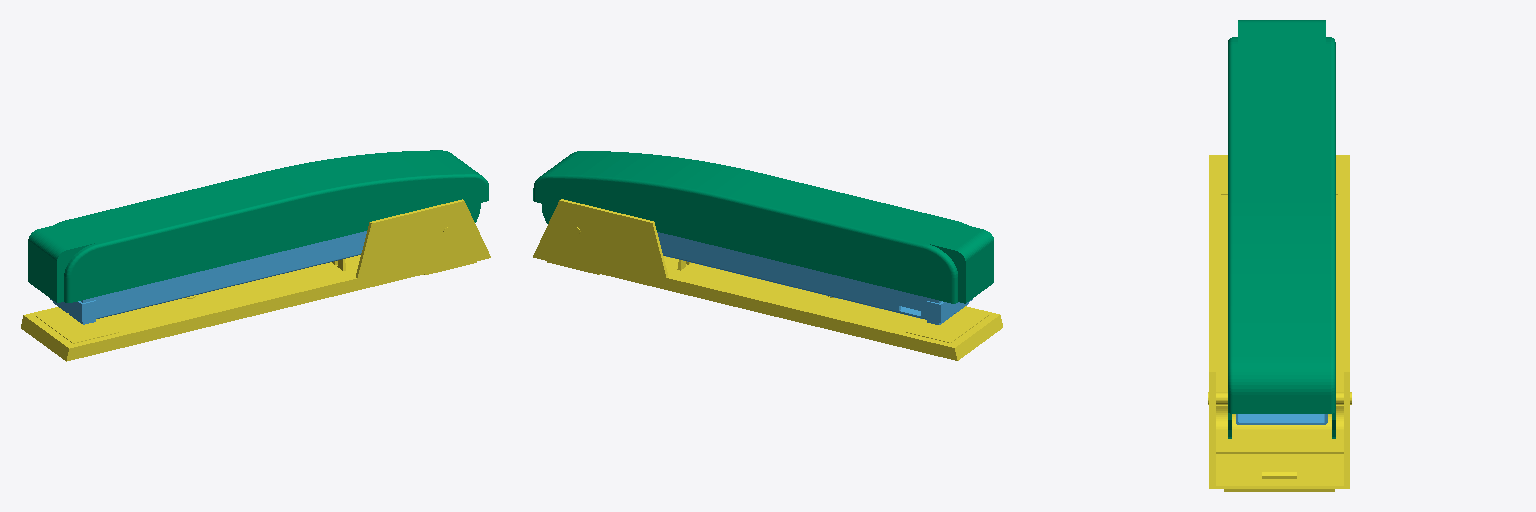
URDF robot description (partnet_88ac7b2b3050f1f861f7b52424be58ab):
<?xml version="1.0" ?>
<robot name="partnet_88ac7b2b3050f1f861f7b52424be58ab">
	<link name="base"/>
	<link name="link_0">
		<visual name="body-1">
			<origin xyz="0 0.018113 0.7633639999999999"/>
			<geometry>
				<mesh filename="textured_objs/original-33.obj"/>
			</geometry>
		</visual>
		<visual name="body-1">
			<origin xyz="0 0.018113 0.7633639999999999"/>
			<geometry>
				<mesh filename="textured_objs/original-14.obj"/>
			</geometry>
		</visual>
		<visual name="body-1">
			<origin xyz="0 0.018113 0.7633639999999999"/>
			<geometry>
				<mesh filename="textured_objs/original-31.obj"/>
			</geometry>
		</visual>
		<visual name="body-1">
			<origin xyz="0 0.018113 0.7633639999999999"/>
			<geometry>
				<mesh filename="textured_objs/original-32.obj"/>
			</geometry>
		</visual>
		<collision>
			<origin xyz="0 0.018113 0.7633639999999999"/>
			<geometry>
				<mesh filename="textured_objs/original-33.obj"/>
			</geometry>
		</collision>
		<collision>
			<origin xyz="0 0.018113 0.7633639999999999"/>
			<geometry>
				<mesh filename="textured_objs/original-14.obj"/>
			</geometry>
		</collision>
		<collision>
			<origin xyz="0 0.018113 0.7633639999999999"/>
			<geometry>
				<mesh filename="textured_objs/original-31.obj"/>
			</geometry>
		</collision>
		<collision>
			<origin xyz="0 0.018113 0.7633639999999999"/>
			<geometry>
				<mesh filename="textured_objs/original-32.obj"/>
			</geometry>
		</collision>
	</link>
	<joint name="joint_0" type="fixed">
		<origin xyz="0 0.0 0.0"/>
		<axis xyz="1 0 0"/>
		<child link="link_0"/>
		<parent link="link_1"/>
		<limit lower="-0.05026548245743661" upper="2.657787384936965"/>
	</joint>
	<link name="link_1">
		<visual name="lid-2">
			<origin xyz="0 0.018113 0.7633639999999999"/>
			<geometry>
				<mesh filename="textured_objs/original-46.obj"/>
			</geometry>
		</visual>
		<visual name="lid-2">
			<origin xyz="0 0.018113 0.7633639999999999"/>
			<geometry>
				<mesh filename="textured_objs/original-47.obj"/>
			</geometry>
		</visual>
		<visual name="lid-2">
			<origin xyz="0 0.018113 0.7633639999999999"/>
			<geometry>
				<mesh filename="textured_objs/original-44.obj"/>
			</geometry>
		</visual>
		<visual name="lid-2">
			<origin xyz="0 0.018113 0.7633639999999999"/>
			<geometry>
				<mesh filename="textured_objs/original-48.obj"/>
			</geometry>
		</visual>
		<visual name="lid-2">
			<origin xyz="0 0.018113 0.7633639999999999"/>
			<geometry>
				<mesh filename="textured_objs/original-45.obj"/>
			</geometry>
		</visual>
		<visual name="lid-2">
			<origin xyz="0 0.018113 0.7633639999999999"/>
			<geometry>
				<mesh filename="textured_objs/original-37.obj"/>
			</geometry>
		</visual>
		<visual name="lid-2">
			<origin xyz="0 0.018113 0.7633639999999999"/>
			<geometry>
				<mesh filename="textured_objs/original-50.obj"/>
			</geometry>
		</visual>
		<visual name="lid-2">
			<origin xyz="0 0.018113 0.7633639999999999"/>
			<geometry>
				<mesh filename="textured_objs/original-51.obj"/>
			</geometry>
		</visual>
		<visual name="lid-2">
			<origin xyz="0 0.018113 0.7633639999999999"/>
			<geometry>
				<mesh filename="textured_objs/original-52.obj"/>
			</geometry>
		</visual>
		<visual name="lid-2">
			<origin xyz="0 0.018113 0.7633639999999999"/>
			<geometry>
				<mesh filename="textured_objs/original-59.obj"/>
			</geometry>
		</visual>
		<visual name="lid-2">
			<origin xyz="0 0.018113 0.7633639999999999"/>
			<geometry>
				<mesh filename="textured_objs/original-38.obj"/>
			</geometry>
		</visual>
		<visual name="lid-2">
			<origin xyz="0 0.018113 0.7633639999999999"/>
			<geometry>
				<mesh filename="textured_objs/original-39.obj"/>
			</geometry>
		</visual>
		<visual name="lid-2">
			<origin xyz="0 0.018113 0.7633639999999999"/>
			<geometry>
				<mesh filename="textured_objs/original-49.obj"/>
			</geometry>
		</visual>
		<visual name="lid-2">
			<origin xyz="0 0.018113 0.7633639999999999"/>
			<geometry>
				<mesh filename="textured_objs/original-36.obj"/>
			</geometry>
		</visual>
		<visual name="lid-2">
			<origin xyz="0 0.018113 0.7633639999999999"/>
			<geometry>
				<mesh filename="textured_objs/original-55.obj"/>
			</geometry>
		</visual>
		<visual name="lid-2">
			<origin xyz="0 0.018113 0.7633639999999999"/>
			<geometry>
				<mesh filename="textured_objs/original-56.obj"/>
			</geometry>
		</visual>
		<visual name="lid-2">
			<origin xyz="0 0.018113 0.7633639999999999"/>
			<geometry>
				<mesh filename="textured_objs/original-53.obj"/>
			</geometry>
		</visual>
		<visual name="lid-2">
			<origin xyz="0 0.018113 0.7633639999999999"/>
			<geometry>
				<mesh filename="textured_objs/original-57.obj"/>
			</geometry>
		</visual>
		<visual name="lid-2">
			<origin xyz="0 0.018113 0.7633639999999999"/>
			<geometry>
				<mesh filename="textured_objs/original-54.obj"/>
			</geometry>
		</visual>
		<visual name="lid-2">
			<origin xyz="0 0.018113 0.7633639999999999"/>
			<geometry>
				<mesh filename="textured_objs/original-60.obj"/>
			</geometry>
		</visual>
		<visual name="lid-2">
			<origin xyz="0 0.018113 0.7633639999999999"/>
			<geometry>
				<mesh filename="textured_objs/original-61.obj"/>
			</geometry>
		</visual>
		<visual name="lid-2">
			<origin xyz="0 0.018113 0.7633639999999999"/>
			<geometry>
				<mesh filename="textured_objs/original-58.obj"/>
			</geometry>
		</visual>
		<visual name="lid-2">
			<origin xyz="0 0.018113 0.7633639999999999"/>
			<geometry>
				<mesh filename="textured_objs/original-15.obj"/>
			</geometry>
		</visual>
		<visual name="lid-2">
			<origin xyz="0 0.018113 0.7633639999999999"/>
			<geometry>
				<mesh filename="textured_objs/original-12.obj"/>
			</geometry>
		</visual>
		<visual name="lid-2">
			<origin xyz="0 0.018113 0.7633639999999999"/>
			<geometry>
				<mesh filename="textured_objs/original-2.obj"/>
			</geometry>
		</visual>
		<visual name="lid-2">
			<origin xyz="0 0.018113 0.7633639999999999"/>
			<geometry>
				<mesh filename="textured_objs/original-7.obj"/>
			</geometry>
		</visual>
		<visual name="lid-2">
			<origin xyz="0 0.018113 0.7633639999999999"/>
			<geometry>
				<mesh filename="textured_objs/original-34.obj"/>
			</geometry>
		</visual>
		<visual name="lid-2">
			<origin xyz="0 0.018113 0.7633639999999999"/>
			<geometry>
				<mesh filename="textured_objs/original-10.obj"/>
			</geometry>
		</visual>
		<visual name="lid-2">
			<origin xyz="0 0.018113 0.7633639999999999"/>
			<geometry>
				<mesh filename="textured_objs/original-9.obj"/>
			</geometry>
		</visual>
		<visual name="lid-2">
			<origin xyz="0 0.018113 0.7633639999999999"/>
			<geometry>
				<mesh filename="textured_objs/original-8.obj"/>
			</geometry>
		</visual>
		<visual name="lid-2">
			<origin xyz="0 0.018113 0.7633639999999999"/>
			<geometry>
				<mesh filename="textured_objs/original-4.obj"/>
			</geometry>
		</visual>
		<visual name="lid-2">
			<origin xyz="0 0.018113 0.7633639999999999"/>
			<geometry>
				<mesh filename="textured_objs/original-5.obj"/>
			</geometry>
		</visual>
		<visual name="lid-2">
			<origin xyz="0 0.018113 0.7633639999999999"/>
			<geometry>
				<mesh filename="textured_objs/original-6.obj"/>
			</geometry>
		</visual>
		<visual name="lid-2">
			<origin xyz="0 0.018113 0.7633639999999999"/>
			<geometry>
				<mesh filename="textured_objs/original-3.obj"/>
			</geometry>
		</visual>
		<visual name="lid-2">
			<origin xyz="0 0.018113 0.7633639999999999"/>
			<geometry>
				<mesh filename="textured_objs/original-11.obj"/>
			</geometry>
		</visual>
		<collision>
			<origin xyz="0 0.018113 0.7633639999999999"/>
			<geometry>
				<mesh filename="textured_objs/original-46.obj"/>
			</geometry>
		</collision>
		<collision>
			<origin xyz="0 0.018113 0.7633639999999999"/>
			<geometry>
				<mesh filename="textured_objs/original-47.obj"/>
			</geometry>
		</collision>
		<collision>
			<origin xyz="0 0.018113 0.7633639999999999"/>
			<geometry>
				<mesh filename="textured_objs/original-44.obj"/>
			</geometry>
		</collision>
		<collision>
			<origin xyz="0 0.018113 0.7633639999999999"/>
			<geometry>
				<mesh filename="textured_objs/original-48.obj"/>
			</geometry>
		</collision>
		<collision>
			<origin xyz="0 0.018113 0.7633639999999999"/>
			<geometry>
				<mesh filename="textured_objs/original-45.obj"/>
			</geometry>
		</collision>
		<collision>
			<origin xyz="0 0.018113 0.7633639999999999"/>
			<geometry>
				<mesh filename="textured_objs/original-37.obj"/>
			</geometry>
		</collision>
		<collision>
			<origin xyz="0 0.018113 0.7633639999999999"/>
			<geometry>
				<mesh filename="textured_objs/original-50.obj"/>
			</geometry>
		</collision>
		<collision>
			<origin xyz="0 0.018113 0.7633639999999999"/>
			<geometry>
				<mesh filename="textured_objs/original-51.obj"/>
			</geometry>
		</collision>
		<collision>
			<origin xyz="0 0.018113 0.7633639999999999"/>
			<geometry>
				<mesh filename="textured_objs/original-52.obj"/>
			</geometry>
		</collision>
		<collision>
			<origin xyz="0 0.018113 0.7633639999999999"/>
			<geometry>
				<mesh filename="textured_objs/original-59.obj"/>
			</geometry>
		</collision>
		<collision>
			<origin xyz="0 0.018113 0.7633639999999999"/>
			<geometry>
				<mesh filename="textured_objs/original-38.obj"/>
			</geometry>
		</collision>
		<collision>
			<origin xyz="0 0.018113 0.7633639999999999"/>
			<geometry>
				<mesh filename="textured_objs/original-39.obj"/>
			</geometry>
		</collision>
		<collision>
			<origin xyz="0 0.018113 0.7633639999999999"/>
			<geometry>
				<mesh filename="textured_objs/original-49.obj"/>
			</geometry>
		</collision>
		<collision>
			<origin xyz="0 0.018113 0.7633639999999999"/>
			<geometry>
				<mesh filename="textured_objs/original-36.obj"/>
			</geometry>
		</collision>
		<collision>
			<origin xyz="0 0.018113 0.7633639999999999"/>
			<geometry>
				<mesh filename="textured_objs/original-55.obj"/>
			</geometry>
		</collision>
		<collision>
			<origin xyz="0 0.018113 0.7633639999999999"/>
			<geometry>
				<mesh filename="textured_objs/original-56.obj"/>
			</geometry>
		</collision>
		<collision>
			<origin xyz="0 0.018113 0.7633639999999999"/>
			<geometry>
				<mesh filename="textured_objs/original-53.obj"/>
			</geometry>
		</collision>
		<collision>
			<origin xyz="0 0.018113 0.7633639999999999"/>
			<geometry>
				<mesh filename="textured_objs/original-57.obj"/>
			</geometry>
		</collision>
		<collision>
			<origin xyz="0 0.018113 0.7633639999999999"/>
			<geometry>
				<mesh filename="textured_objs/original-54.obj"/>
			</geometry>
		</collision>
		<collision>
			<origin xyz="0 0.018113 0.7633639999999999"/>
			<geometry>
				<mesh filename="textured_objs/original-60.obj"/>
			</geometry>
		</collision>
		<collision>
			<origin xyz="0 0.018113 0.7633639999999999"/>
			<geometry>
				<mesh filename="textured_objs/original-61.obj"/>
			</geometry>
		</collision>
		<collision>
			<origin xyz="0 0.018113 0.7633639999999999"/>
			<geometry>
				<mesh filename="textured_objs/original-58.obj"/>
			</geometry>
		</collision>
		<collision>
			<origin xyz="0 0.018113 0.7633639999999999"/>
			<geometry>
				<mesh filename="textured_objs/original-15.obj"/>
			</geometry>
		</collision>
		<collision>
			<origin xyz="0 0.018113 0.7633639999999999"/>
			<geometry>
				<mesh filename="textured_objs/original-12.obj"/>
			</geometry>
		</collision>
		<collision>
			<origin xyz="0 0.018113 0.7633639999999999"/>
			<geometry>
				<mesh filename="textured_objs/original-2.obj"/>
			</geometry>
		</collision>
		<collision>
			<origin xyz="0 0.018113 0.7633639999999999"/>
			<geometry>
				<mesh filename="textured_objs/original-7.obj"/>
			</geometry>
		</collision>
		<collision>
			<origin xyz="0 0.018113 0.7633639999999999"/>
			<geometry>
				<mesh filename="textured_objs/original-34.obj"/>
			</geometry>
		</collision>
		<collision>
			<origin xyz="0 0.018113 0.7633639999999999"/>
			<geometry>
				<mesh filename="textured_objs/original-10.obj"/>
			</geometry>
		</collision>
		<collision>
			<origin xyz="0 0.018113 0.7633639999999999"/>
			<geometry>
				<mesh filename="textured_objs/original-9.obj"/>
			</geometry>
		</collision>
		<collision>
			<origin xyz="0 0.018113 0.7633639999999999"/>
			<geometry>
				<mesh filename="textured_objs/original-8.obj"/>
			</geometry>
		</collision>
		<collision>
			<origin xyz="0 0.018113 0.7633639999999999"/>
			<geometry>
				<mesh filename="textured_objs/original-4.obj"/>
			</geometry>
		</collision>
		<collision>
			<origin xyz="0 0.018113 0.7633639999999999"/>
			<geometry>
				<mesh filename="textured_objs/original-5.obj"/>
			</geometry>
		</collision>
		<collision>
			<origin xyz="0 0.018113 0.7633639999999999"/>
			<geometry>
				<mesh filename="textured_objs/original-6.obj"/>
			</geometry>
		</collision>
		<collision>
			<origin xyz="0 0.018113 0.7633639999999999"/>
			<geometry>
				<mesh filename="textured_objs/original-3.obj"/>
			</geometry>
		</collision>
		<collision>
			<origin xyz="0 0.018113 0.7633639999999999"/>
			<geometry>
				<mesh filename="textured_objs/original-11.obj"/>
			</geometry>
		</collision>
	</link>
	<joint name="joint_1" type="revolute">
		<origin xyz="0 -0.018113 -0.7633639999999999"/>
		<axis xyz="-1 0 0"/>
		<child link="link_1"/>
		<parent link="link_2"/>
		<limit lower="-0.050265482457436686" upper="1.9415042599184924"/>
	</joint>
	<link name="link_2">
		<visual name="base_body-3">
			<origin xyz="0 0 0"/>
			<geometry>
				<mesh filename="textured_objs/original-29.obj"/>
			</geometry>
		</visual>
		<visual name="base_body-3">
			<origin xyz="0 0 0"/>
			<geometry>
				<mesh filename="textured_objs/original-21.obj"/>
			</geometry>
		</visual>
		<visual name="base_body-3">
			<origin xyz="0 0 0"/>
			<geometry>
				<mesh filename="textured_objs/original-30.obj"/>
			</geometry>
		</visual>
		<visual name="base_body-3">
			<origin xyz="0 0 0"/>
			<geometry>
				<mesh filename="textured_objs/original-41.obj"/>
			</geometry>
		</visual>
		<visual name="base_body-3">
			<origin xyz="0 0 0"/>
			<geometry>
				<mesh filename="textured_objs/original-28.obj"/>
			</geometry>
		</visual>
		<visual name="base_body-3">
			<origin xyz="0 0 0"/>
			<geometry>
				<mesh filename="textured_objs/original-64.obj"/>
			</geometry>
		</visual>
		<visual name="base_body-3">
			<origin xyz="0 0 0"/>
			<geometry>
				<mesh filename="textured_objs/original-43.obj"/>
			</geometry>
		</visual>
		<visual name="base_body-3">
			<origin xyz="0 0 0"/>
			<geometry>
				<mesh filename="textured_objs/original-22.obj"/>
			</geometry>
		</visual>
		<visual name="base_body-3">
			<origin xyz="0 0 0"/>
			<geometry>
				<mesh filename="textured_objs/original-26.obj"/>
			</geometry>
		</visual>
		<visual name="base_body-3">
			<origin xyz="0 0 0"/>
			<geometry>
				<mesh filename="textured_objs/original-65.obj"/>
			</geometry>
		</visual>
		<visual name="base_body-3">
			<origin xyz="0 0 0"/>
			<geometry>
				<mesh filename="textured_objs/original-16.obj"/>
			</geometry>
		</visual>
		<visual name="base_body-3">
			<origin xyz="0 0 0"/>
			<geometry>
				<mesh filename="textured_objs/original-35.obj"/>
			</geometry>
		</visual>
		<visual name="base_body-3">
			<origin xyz="0 0 0"/>
			<geometry>
				<mesh filename="textured_objs/original-63.obj"/>
			</geometry>
		</visual>
		<visual name="base_body-3">
			<origin xyz="0 0 0"/>
			<geometry>
				<mesh filename="textured_objs/original-27.obj"/>
			</geometry>
		</visual>
		<visual name="base_body-3">
			<origin xyz="0 0 0"/>
			<geometry>
				<mesh filename="textured_objs/original-62.obj"/>
			</geometry>
		</visual>
		<visual name="base_body-3">
			<origin xyz="0 0 0"/>
			<geometry>
				<mesh filename="textured_objs/original-23.obj"/>
			</geometry>
		</visual>
		<visual name="base_body-3">
			<origin xyz="0 0 0"/>
			<geometry>
				<mesh filename="textured_objs/original-66.obj"/>
			</geometry>
		</visual>
		<visual name="base_body-3">
			<origin xyz="0 0 0"/>
			<geometry>
				<mesh filename="textured_objs/original-67.obj"/>
			</geometry>
		</visual>
		<visual name="base_body-3">
			<origin xyz="0 0 0"/>
			<geometry>
				<mesh filename="textured_objs/original-18.obj"/>
			</geometry>
		</visual>
		<visual name="base_body-3">
			<origin xyz="0 0 0"/>
			<geometry>
				<mesh filename="textured_objs/original-25.obj"/>
			</geometry>
		</visual>
		<visual name="base_body-3">
			<origin xyz="0 0 0"/>
			<geometry>
				<mesh filename="textured_objs/original-17.obj"/>
			</geometry>
		</visual>
		<visual name="base_body-3">
			<origin xyz="0 0 0"/>
			<geometry>
				<mesh filename="textured_objs/original-42.obj"/>
			</geometry>
		</visual>
		<visual name="base_body-3">
			<origin xyz="0 0 0"/>
			<geometry>
				<mesh filename="textured_objs/original-24.obj"/>
			</geometry>
		</visual>
		<visual name="base_body-3">
			<origin xyz="0 0 0"/>
			<geometry>
				<mesh filename="textured_objs/original-20.obj"/>
			</geometry>
		</visual>
		<visual name="base_body-3">
			<origin xyz="0 0 0"/>
			<geometry>
				<mesh filename="textured_objs/original-19.obj"/>
			</geometry>
		</visual>
		<visual name="base_body-3">
			<origin xyz="0 0 0"/>
			<geometry>
				<mesh filename="textured_objs/original-40.obj"/>
			</geometry>
		</visual>
		<collision>
			<origin xyz="0 0 0"/>
			<geometry>
				<mesh filename="textured_objs/original-29.obj"/>
			</geometry>
		</collision>
		<collision>
			<origin xyz="0 0 0"/>
			<geometry>
				<mesh filename="textured_objs/original-21.obj"/>
			</geometry>
		</collision>
		<collision>
			<origin xyz="0 0 0"/>
			<geometry>
				<mesh filename="textured_objs/original-30.obj"/>
			</geometry>
		</collision>
		<collision>
			<origin xyz="0 0 0"/>
			<geometry>
				<mesh filename="textured_objs/original-41.obj"/>
			</geometry>
		</collision>
		<collision>
			<origin xyz="0 0 0"/>
			<geometry>
				<mesh filename="textured_objs/original-28.obj"/>
			</geometry>
		</collision>
		<collision>
			<origin xyz="0 0 0"/>
			<geometry>
				<mesh filename="textured_objs/original-64.obj"/>
			</geometry>
		</collision>
		<collision>
			<origin xyz="0 0 0"/>
			<geometry>
				<mesh filename="textured_objs/original-43.obj"/>
			</geometry>
		</collision>
		<collision>
			<origin xyz="0 0 0"/>
			<geometry>
				<mesh filename="textured_objs/original-22.obj"/>
			</geometry>
		</collision>
		<collision>
			<origin xyz="0 0 0"/>
			<geometry>
				<mesh filename="textured_objs/original-26.obj"/>
			</geometry>
		</collision>
		<collision>
			<origin xyz="0 0 0"/>
			<geometry>
				<mesh filename="textured_objs/original-65.obj"/>
			</geometry>
		</collision>
		<collision>
			<origin xyz="0 0 0"/>
			<geometry>
				<mesh filename="textured_objs/original-16.obj"/>
			</geometry>
		</collision>
		<collision>
			<origin xyz="0 0 0"/>
			<geometry>
				<mesh filename="textured_objs/original-35.obj"/>
			</geometry>
		</collision>
		<collision>
			<origin xyz="0 0 0"/>
			<geometry>
				<mesh filename="textured_objs/original-63.obj"/>
			</geometry>
		</collision>
		<collision>
			<origin xyz="0 0 0"/>
			<geometry>
				<mesh filename="textured_objs/original-27.obj"/>
			</geometry>
		</collision>
		<collision>
			<origin xyz="0 0 0"/>
			<geometry>
				<mesh filename="textured_objs/original-62.obj"/>
			</geometry>
		</collision>
		<collision>
			<origin xyz="0 0 0"/>
			<geometry>
				<mesh filename="textured_objs/original-23.obj"/>
			</geometry>
		</collision>
		<collision>
			<origin xyz="0 0 0"/>
			<geometry>
				<mesh filename="textured_objs/original-66.obj"/>
			</geometry>
		</collision>
		<collision>
			<origin xyz="0 0 0"/>
			<geometry>
				<mesh filename="textured_objs/original-67.obj"/>
			</geometry>
		</collision>
		<collision>
			<origin xyz="0 0 0"/>
			<geometry>
				<mesh filename="textured_objs/original-18.obj"/>
			</geometry>
		</collision>
		<collision>
			<origin xyz="0 0 0"/>
			<geometry>
				<mesh filename="textured_objs/original-25.obj"/>
			</geometry>
		</collision>
		<collision>
			<origin xyz="0 0 0"/>
			<geometry>
				<mesh filename="textured_objs/original-17.obj"/>
			</geometry>
		</collision>
		<collision>
			<origin xyz="0 0 0"/>
			<geometry>
				<mesh filename="textured_objs/original-42.obj"/>
			</geometry>
		</collision>
		<collision>
			<origin xyz="0 0 0"/>
			<geometry>
				<mesh filename="textured_objs/original-24.obj"/>
			</geometry>
		</collision>
		<collision>
			<origin xyz="0 0 0"/>
			<geometry>
				<mesh filename="textured_objs/original-20.obj"/>
			</geometry>
		</collision>
		<collision>
			<origin xyz="0 0 0"/>
			<geometry>
				<mesh filename="textured_objs/original-19.obj"/>
			</geometry>
		</collision>
		<collision>
			<origin xyz="0 0 0"/>
			<geometry>
				<mesh filename="textured_objs/original-40.obj"/>
			</geometry>
		</collision>
	</link>
	<joint name="joint_2" type="fixed">
		<origin rpy="1.570796326794897 0 -1.570796326794897" xyz="0 0 0"/>
		<child link="link_2"/>
		<parent link="base"/>
	</joint>
</robot>

--- Render facts (derived) ---
The picture shows the robot from 3 angles, left to right: view 1: azimuth 30°, elevation 25°; view 2: azimuth 150°, elevation 25°; view 3: azimuth 270°, elevation 25°; orthographic projection.
Model partnet_88ac7b2b3050f1f861f7b52424be58ab with 4 links and 3 joints (1 revolute, 2 fixed), rooted at base, posed every joint at zero.
Visible links, largest first — view 1: link_1, link_2, link_0; view 2: link_1, link_2, link_0; view 3: link_1, link_2, link_0.
Boxes of the visible links, x1,y1,x2,y2 form: link_1: [28, 150, 488, 302]; link_2: [21, 199, 490, 361]; link_0: [50, 231, 366, 324]; link_1: [533, 151, 993, 303]; link_2: [533, 199, 1002, 360]; link_0: [657, 232, 972, 324]; link_1: [1228, 20, 1335, 438]; link_2: [1208, 155, 1351, 491]; link_0: [1236, 414, 1327, 424].
Size in the robot's own frame: 1.96 by 0.3707 by 0.4769 metres.
Meshes: 65 distinct files referenced, 65 mesh visuals loaded (65 OBJ).